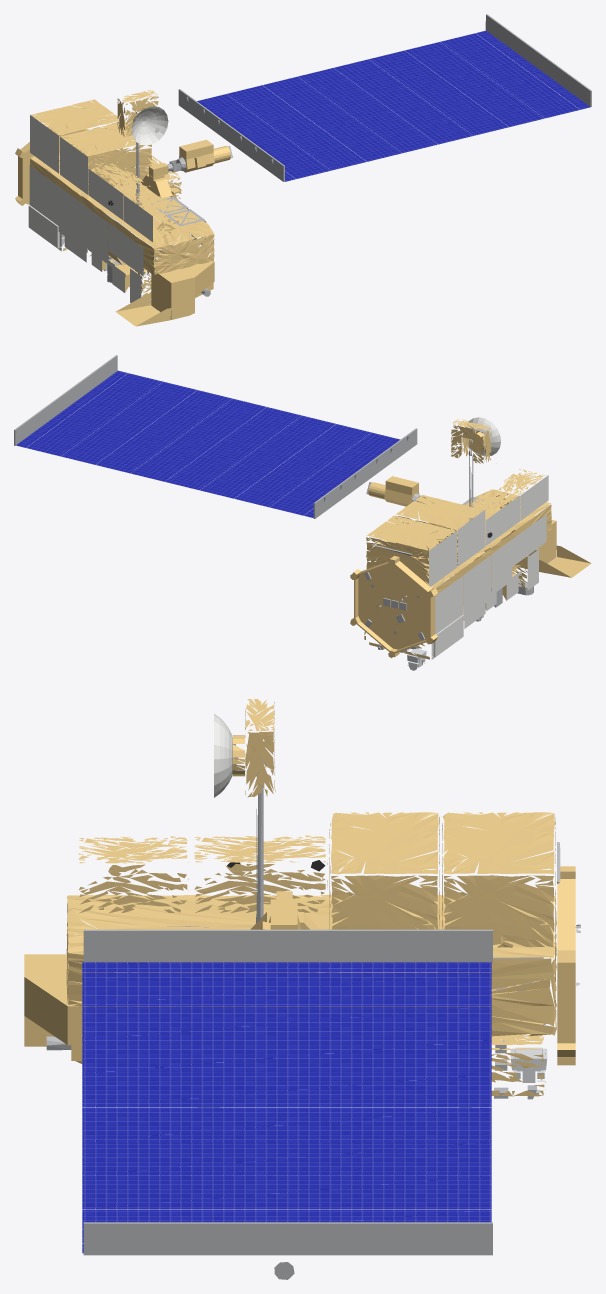
The model's file is terra.glb.
3 renders of one model, top to bottom at view 1: azimuth 30°, elevation 25°; view 2: azimuth 150°, elevation 25°; view 3: azimuth 270°, elevation 25°, orthographic. The views are drawn at different scales.
Visible parts, largest first — view 1: Terra_vFINAL [Layer1]; view 2: Terra_vFINAL [Layer1]; view 3: Terra_vFINAL [Layer1].
Boxes of the visible parts, left/top/right/bottom form: Terra_vFINAL [Layer1]: left=15, top=14, right=591, bottom=326; Terra_vFINAL [Layer1]: left=14, top=355, right=591, bottom=670; Terra_vFINAL [Layer1]: left=24, top=699, right=580, bottom=1279.
Bounding box in the file's own units: 1 × 0.3943 × 0.5228.
Materials: 6 (1 with a texture image).
